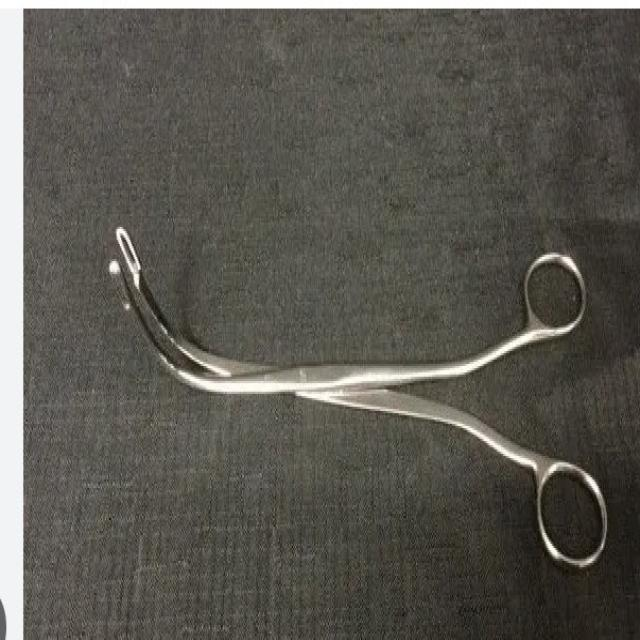Randall: (85, 179, 611, 582)
